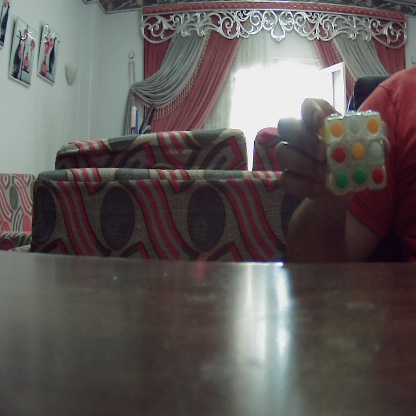Rubix Cube: (328, 113, 384, 190)
